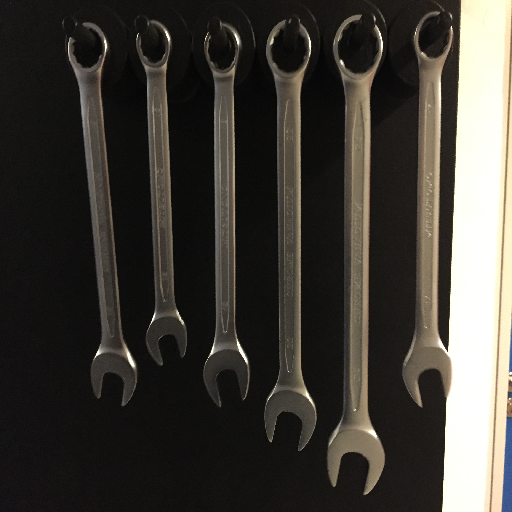bottom: (325, 426, 388, 501), (399, 341, 458, 409), (258, 388, 320, 452)
top: (331, 11, 384, 80), (200, 347, 255, 412), (260, 19, 313, 77), (89, 349, 139, 407), (140, 317, 194, 368), (65, 22, 115, 75), (408, 8, 455, 63), (201, 17, 242, 73), (133, 21, 172, 67)
